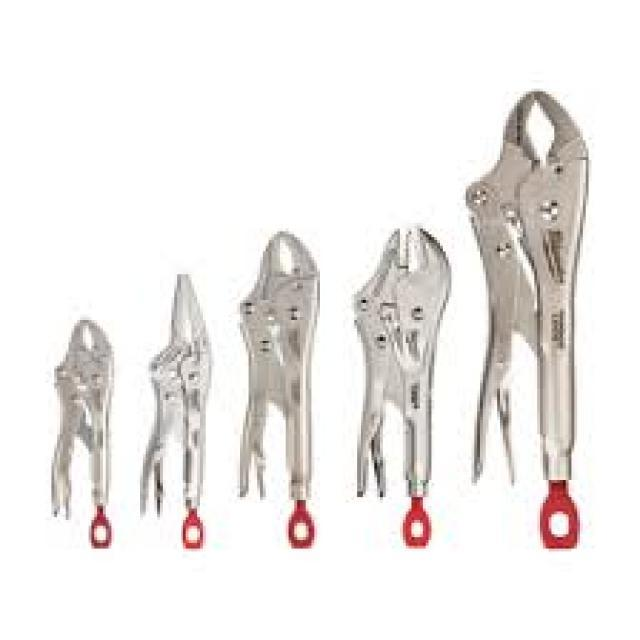pliers: (462, 80, 600, 505), (342, 218, 457, 504), (228, 222, 324, 510), (128, 262, 220, 512), (45, 311, 124, 518)
